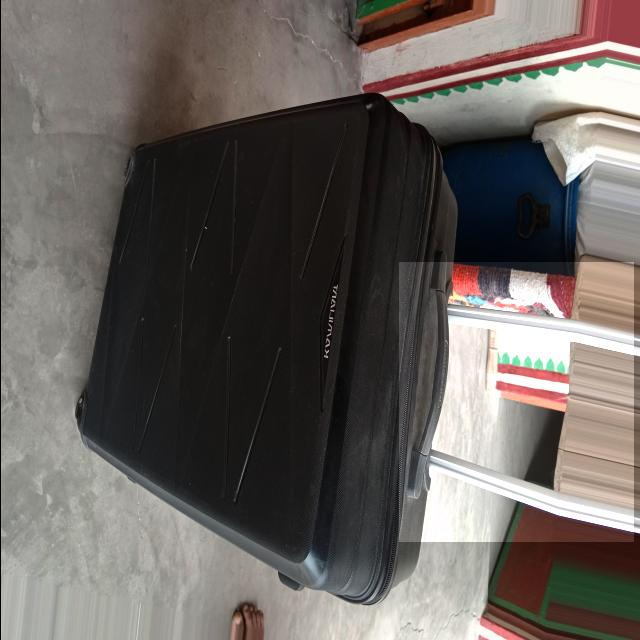Bag: (62, 64, 596, 629)
Handle: (402, 290, 592, 536)
